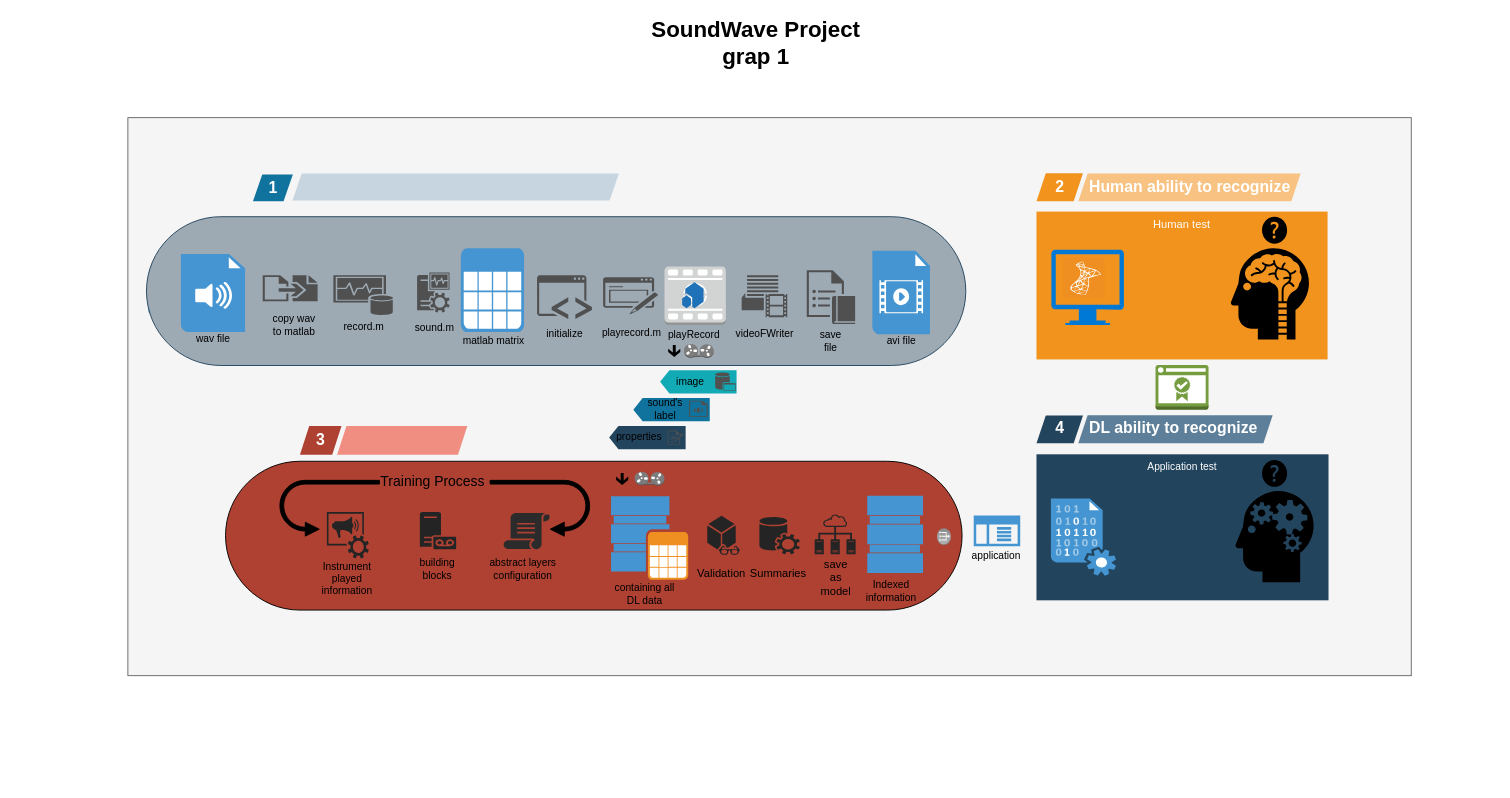
Some shapes in this 1510 by 798 pixel diagram are drawn without their labels. Each missing label, with the box of its shape:
Deep learning: (337, 425, 467, 454)
Transformation from sound to 2D object: (292, 173, 618, 200)
Transformation process: (146, 216, 966, 365)
